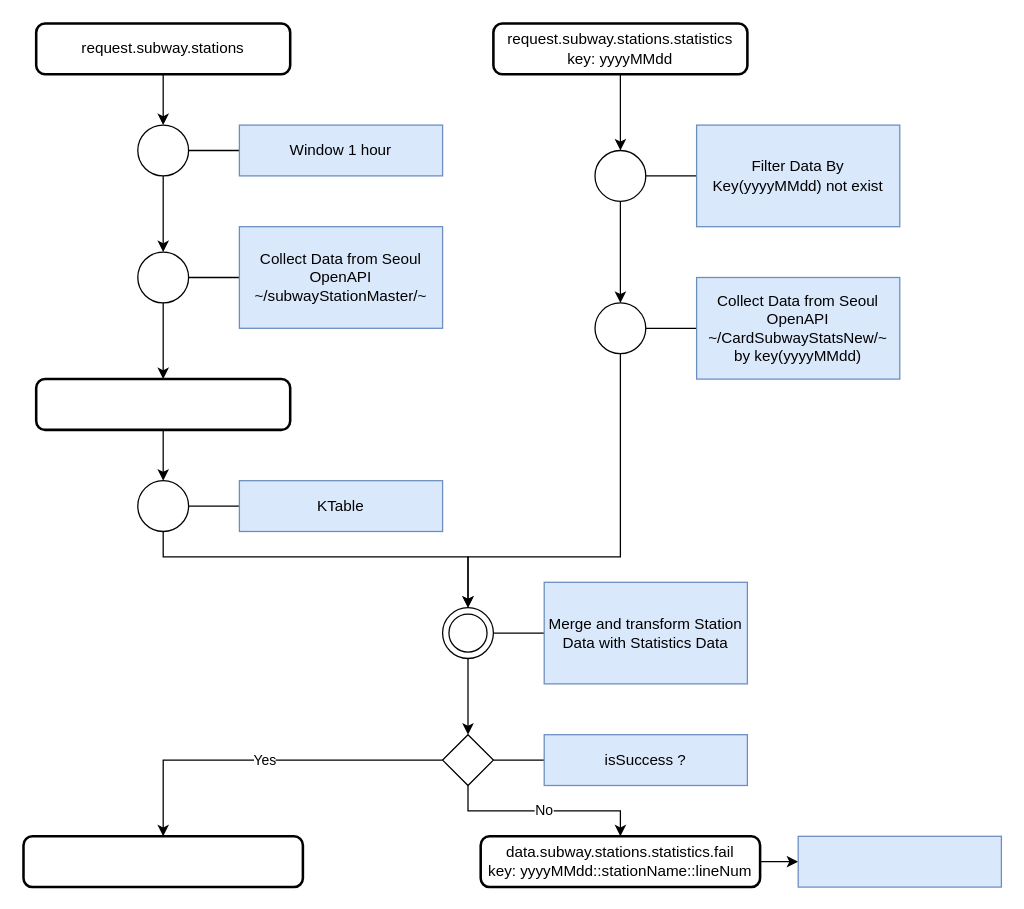
This 1024x909 diagram has some shape labels left out. The shapes that lost their labels are listed below. From the top down, each one's centre as x and y in pixels, then its label:
At (162,404): "data.subway.stations key: STATN_ID".
At (163,861): "data.subway.stations.statistics key: yyyyMMdd::stationId".
At (899,861): "// TODO: 실패한 Data 매칭".
